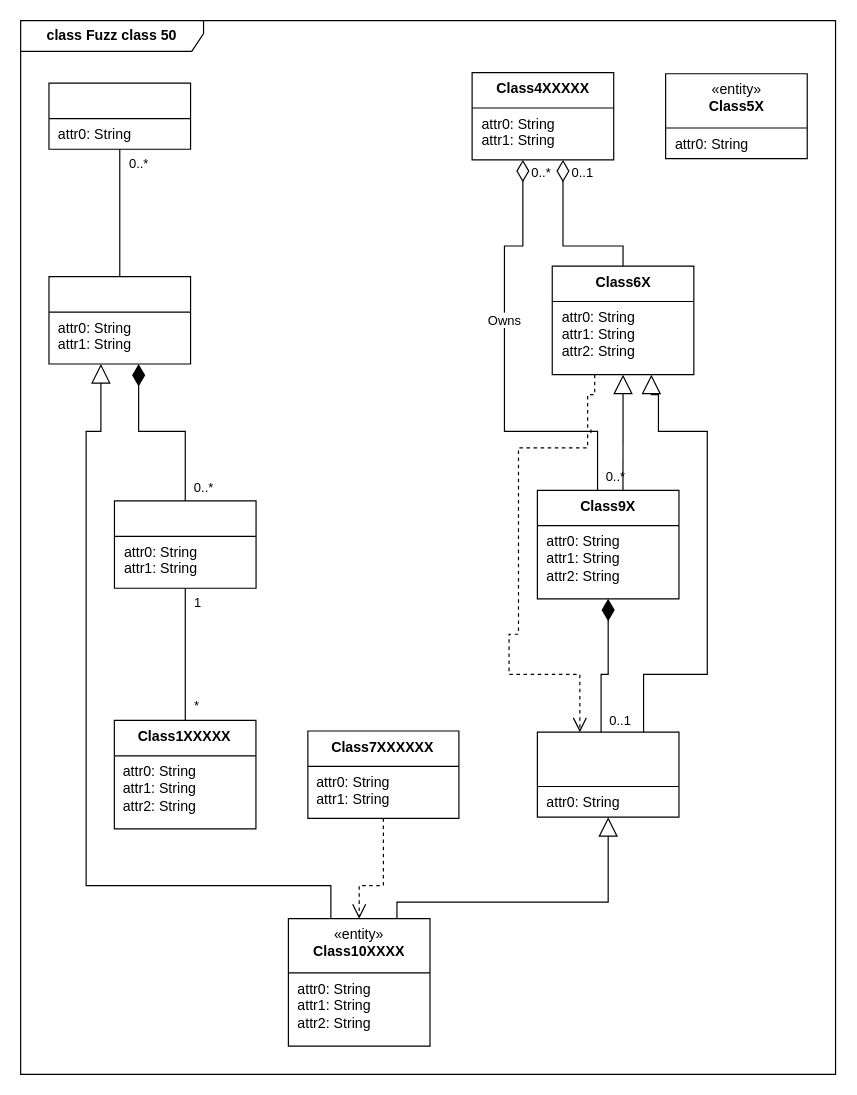
Image size: 857x1095. Some labels were removed from this diagram. The box of each missing label's shape, as (x1, y1, x2, y2) in pixels:
Class0XXXXX: (113, 500, 256, 588)
Class2XXX: (48, 276, 191, 364)
Class3XXXXX: (48, 82, 191, 149)
«entity» Class8XXXXX: (536, 731, 679, 817)
